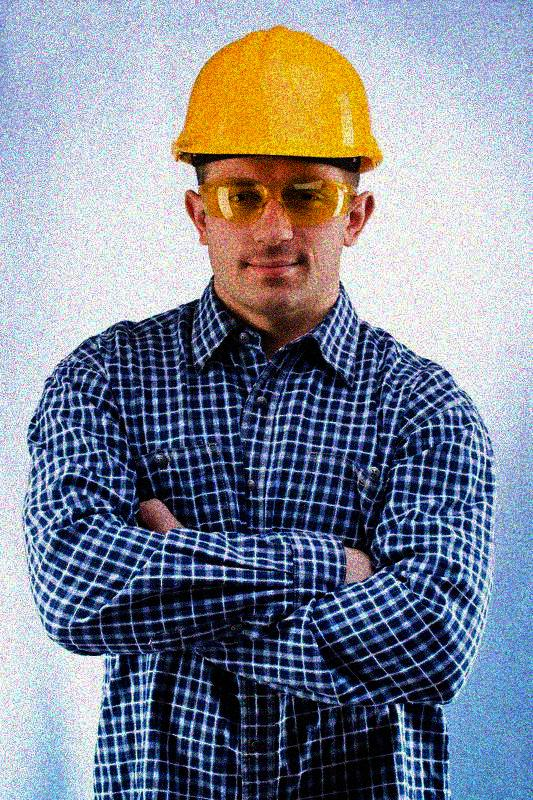helmet: (168, 26, 380, 320)
